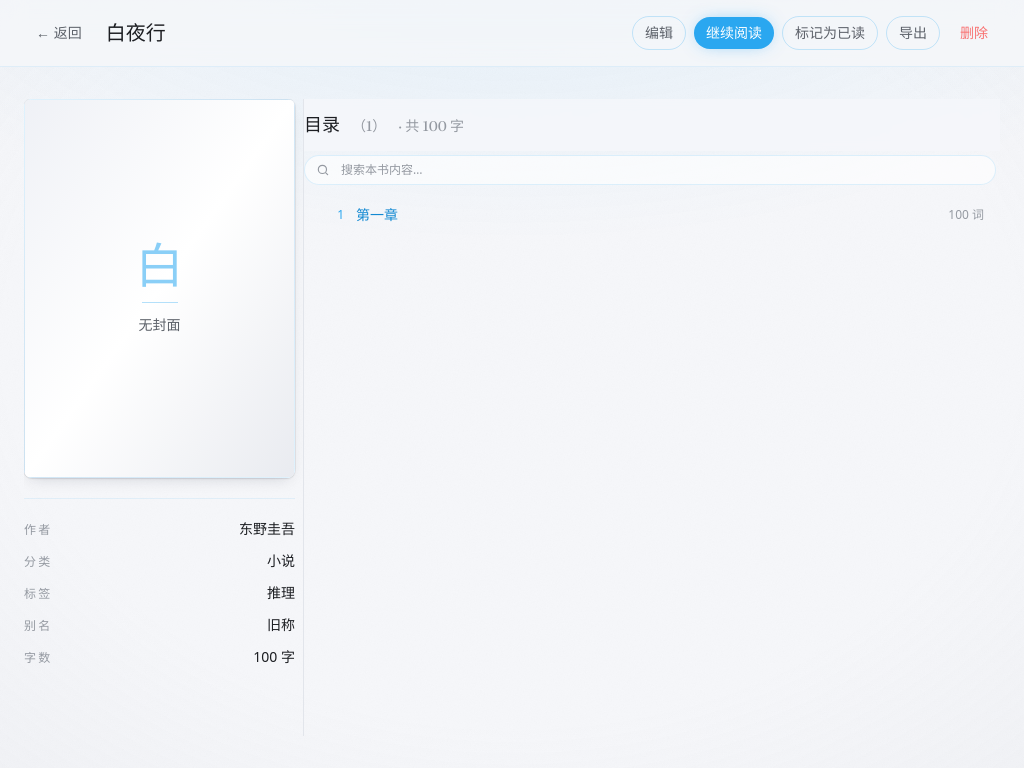
DetailPage 元数据 › 编辑模式回填三个新字段
The width and height of the screenshot is (1024, 768).
Click the button "编辑".
click(659, 33)  # box [632,16,686,50]
(page scrolled)
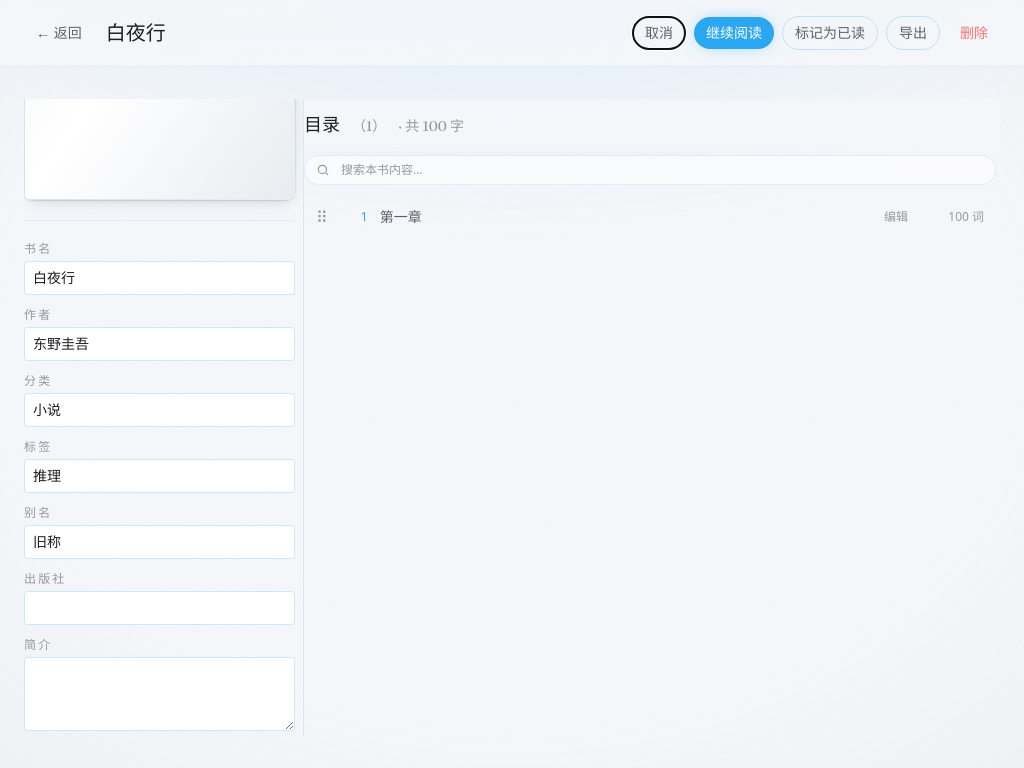
Now the field named "分类" holds "小说", box [24,393,295,427]
Now the field named "标签" holds "推理", box [24,459,295,493]
Now the field named "别名" holds "旧称", box [24,525,295,559]
